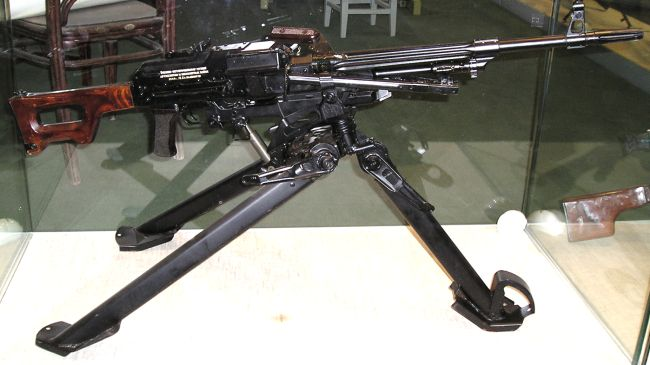rifle: (13, 19, 637, 276)
